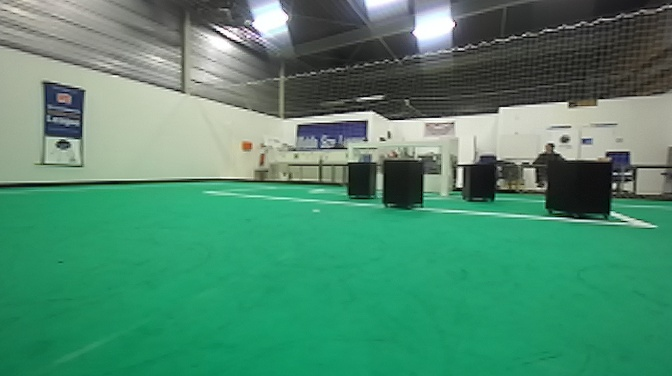goalpost: (442, 140, 450, 200), (344, 142, 356, 161)
